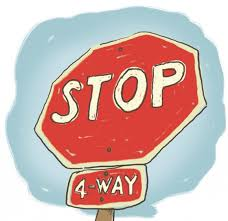Stop: (43, 37, 210, 167)
